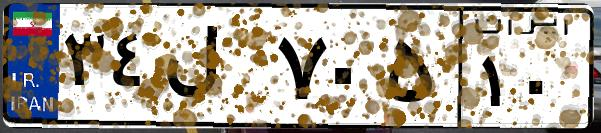0: (330, 28, 385, 110), (525, 38, 570, 115)
1: (475, 38, 525, 113)
3: (57, 26, 110, 100)
4: (110, 28, 158, 98)
5: (385, 28, 445, 110)
7: (270, 28, 330, 110)
ل: (158, 20, 270, 120)
